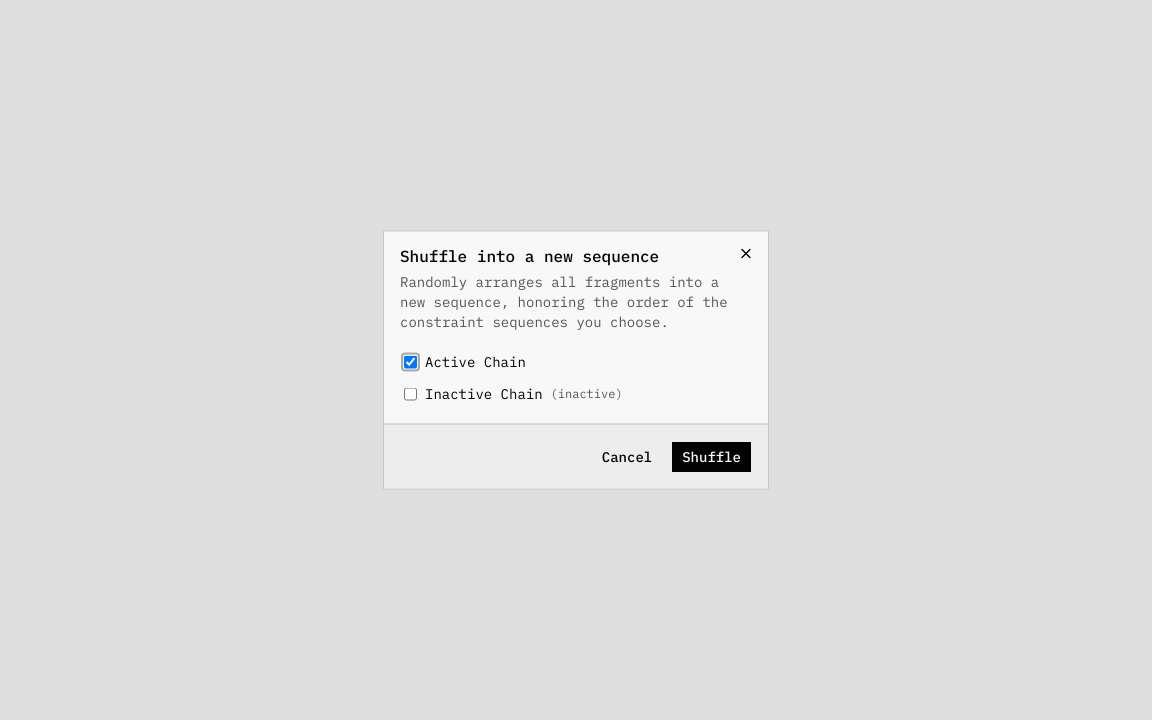
Scenario: ShuffleSequenceDialog › shows an inline conflict and stays open on a constraint cycle
Click the button "Shuffle".
click(712, 456)  # box [671,440,752,472]
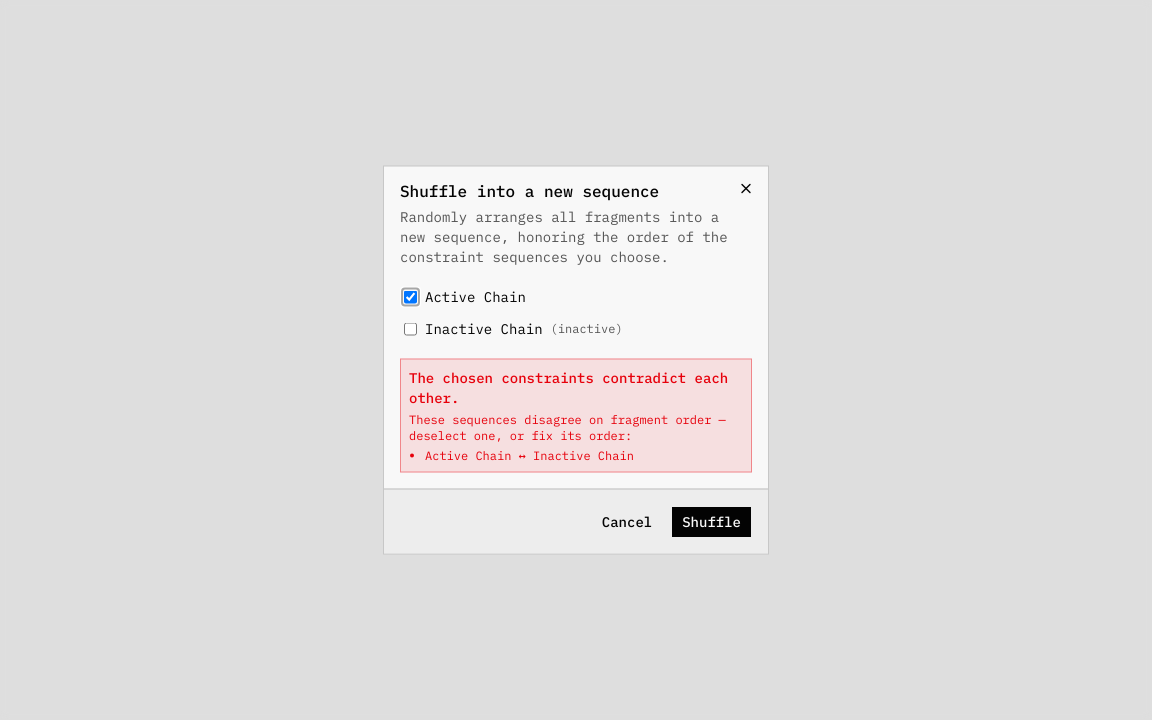
Now the text "The chosen constraints contradict each other." is shown, box [409,368,743,408]
Now the list item "Active Chain ↔ Inactive Chain" is shown, box [425,448,634,462]
